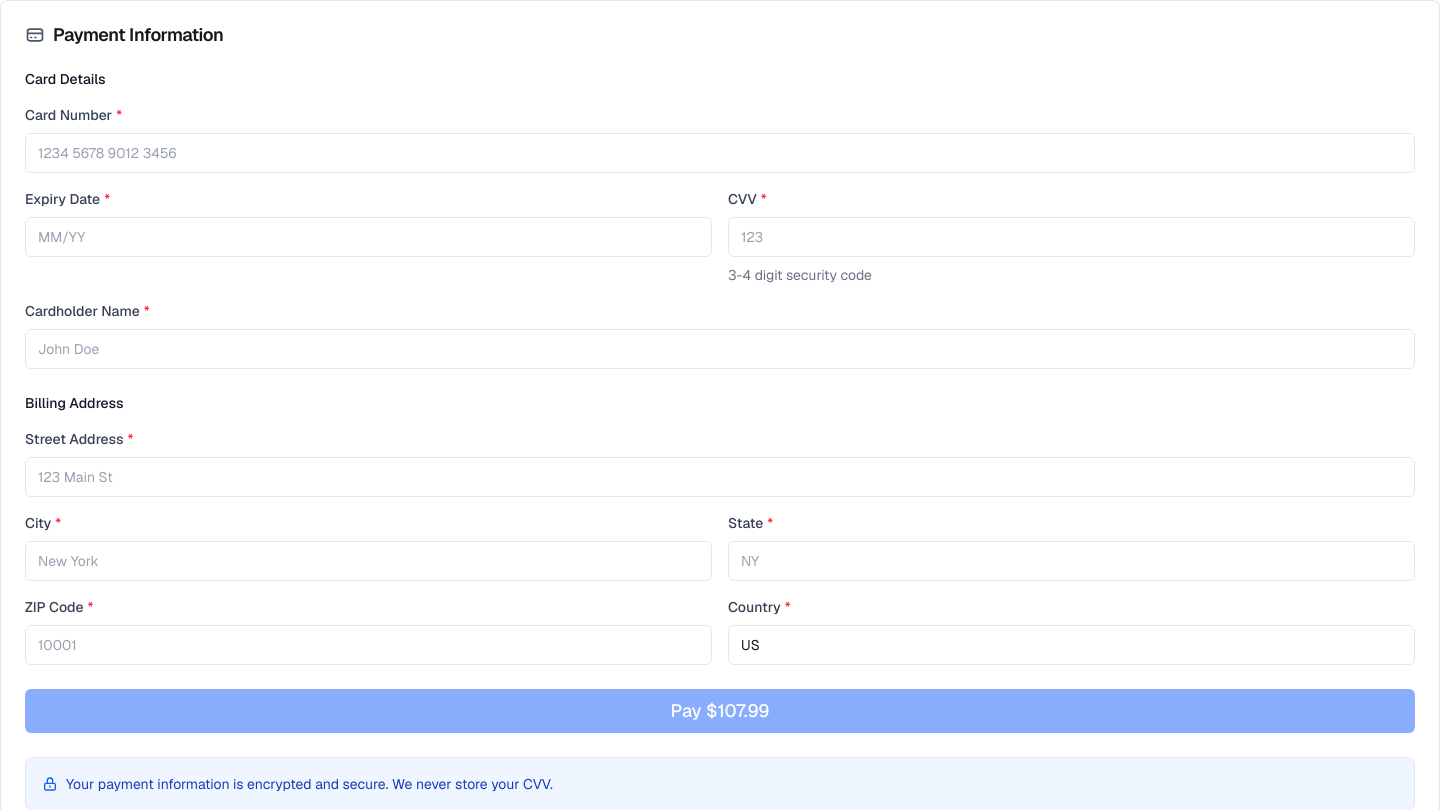
Scenario: PaymentForm Component › Form Input Formatting › should format expiry date with slash
Type "1225" into the field labelled "Expiry Date*" at coordinates (368, 237), box 25,217 -> 712,257
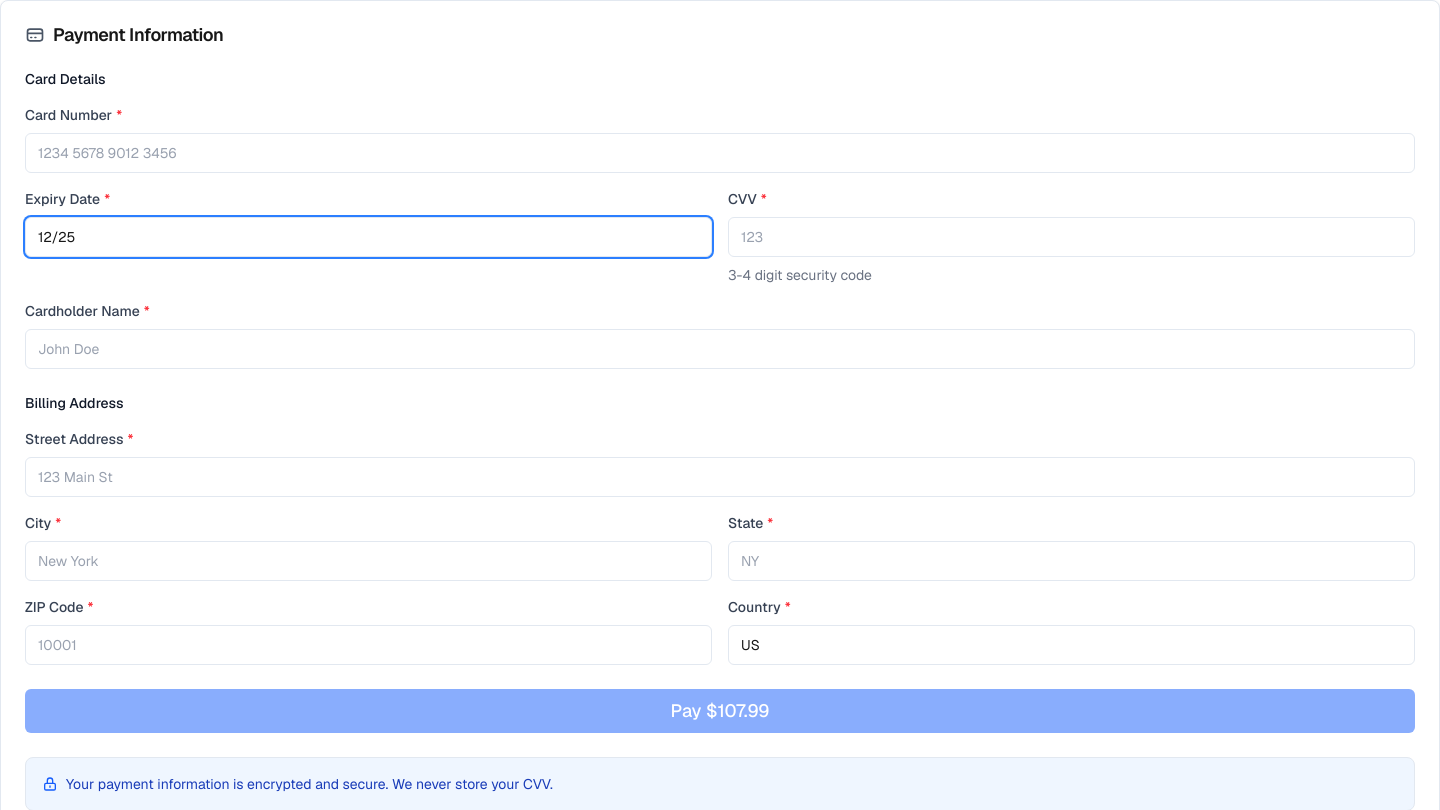
Expected: the field labelled "Expiry Date*" holds "12/25", 25,217 -> 712,257
